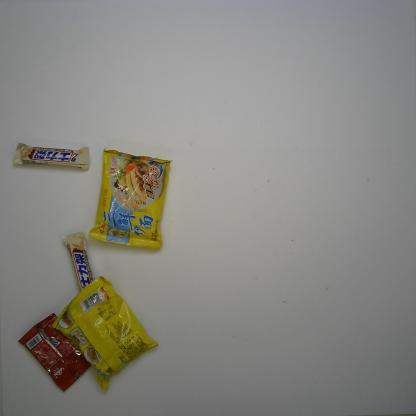Chocolate: (63, 231, 98, 306), (11, 142, 91, 171)
Instant Drink: (17, 312, 92, 392)
Instant Noodles: (52, 275, 159, 391), (88, 147, 172, 250)
